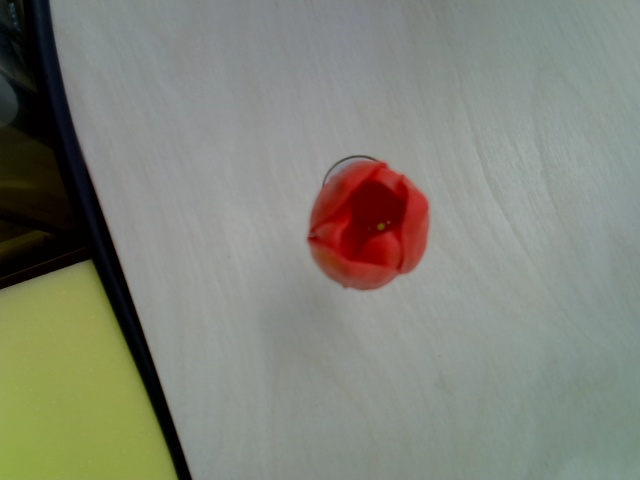튤립: (307, 160, 433, 292)
